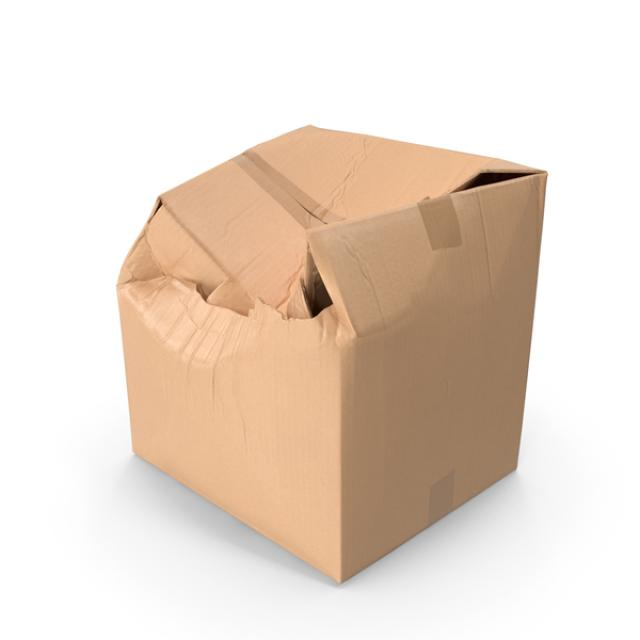Kardus kondisi rusak: (116, 119, 555, 592)
